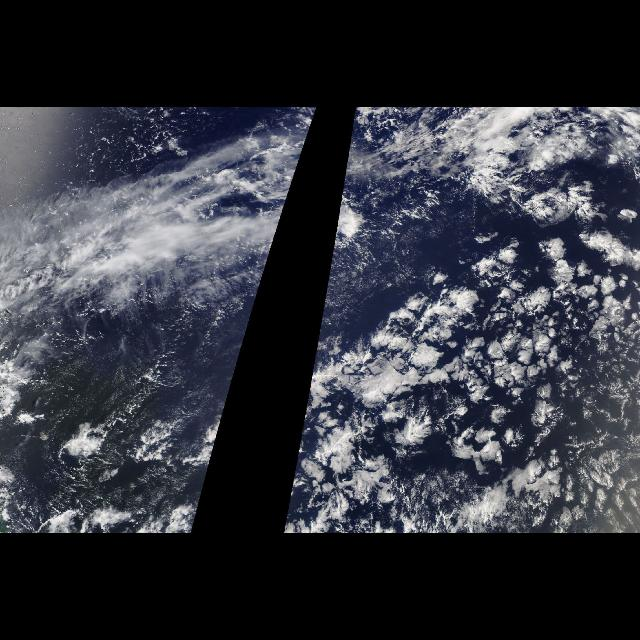Flower: (306, 233, 640, 533)
